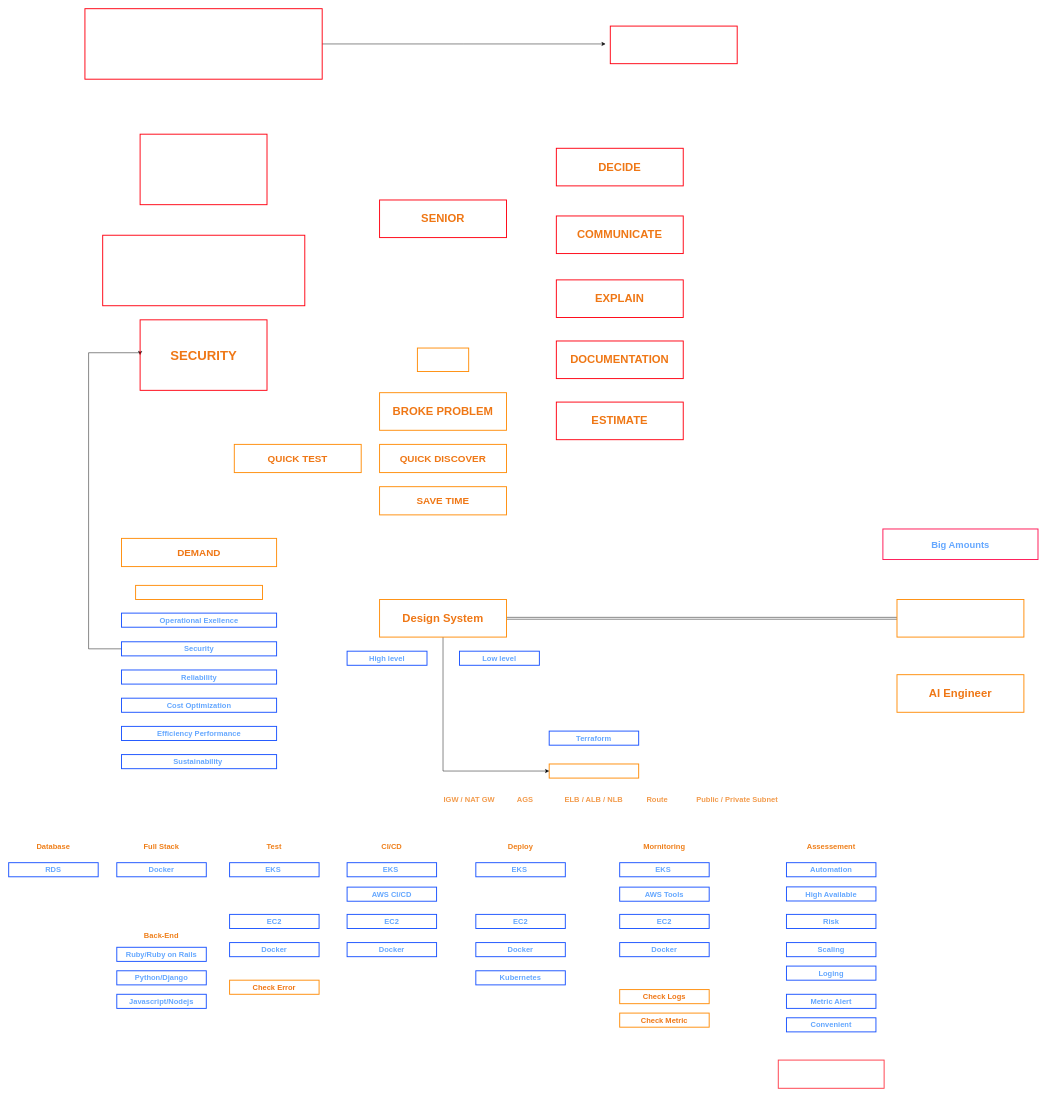
This 1046x1097 diagram has some shape labels left out. Each missing label, with the centre of its shape:
AWARENESS ĐẠO ĐỨC NGHỀ NGHIỆP: pixel 203 270
BUSSINESS: pixel 203 169
Cloud Solution Architect: pixel 960 618
Network: pixel 593 770
NOTE: pixel 443 359
Plan: pixel 831 1074
PLAN FOR ANY SITTUATION: pixel 203 43
Well Architecture Frame: pixel 199 592
